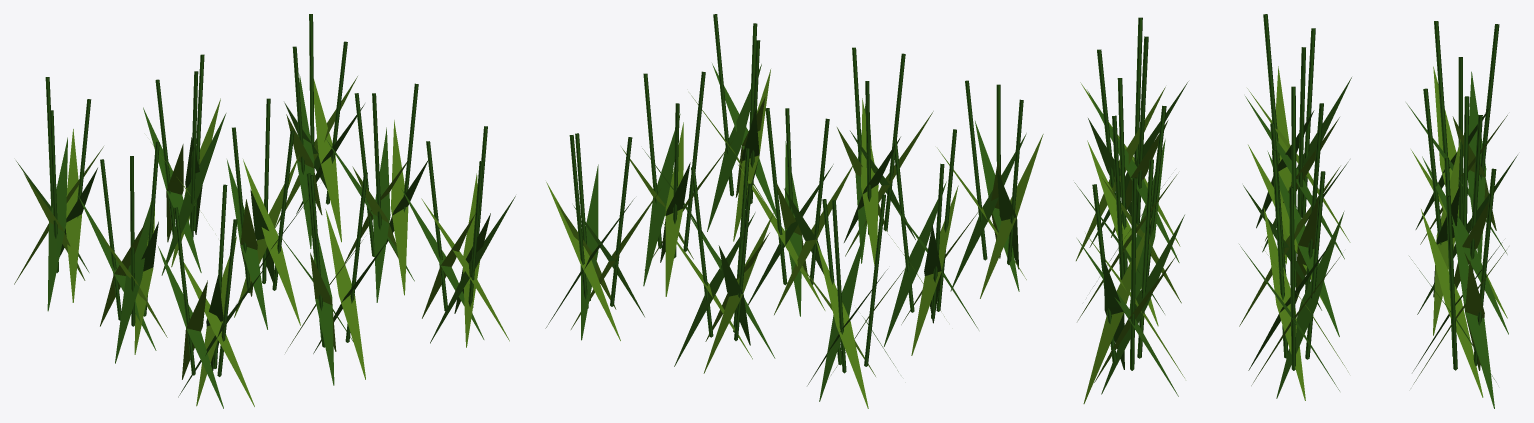
File: crop-cell-rice-young.obj
The picture shows the model from 3 angles, left to right: view 1: azimuth 30°, elevation 25°; view 2: azimuth 150°, elevation 25°; view 3: azimuth 270°, elevation 25°; orthographic projection. The views are drawn at different scales.
Visible parts, largest first — view 1: crop-cell-rice-young; view 2: crop-cell-rice-young; view 3: crop-cell-rice-young.
Boxes of the visible parts, x1=… form: crop-cell-rice-young: x1=14, y1=14, x2=515, y2=408; crop-cell-rice-young: x1=545, y1=14, x2=1043, y2=408; crop-cell-rice-young: x1=1074, y1=14, x2=1517, y2=408.
Bounding box in the file's own units: 0.528 × 0.2858 × 0.5139.
1 material, 1 textured.
